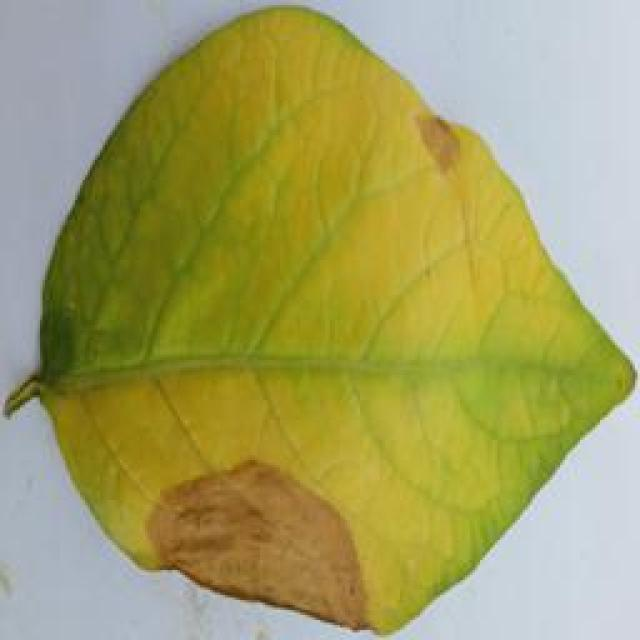Potato_Late_Blight: (6, 5, 625, 633)
